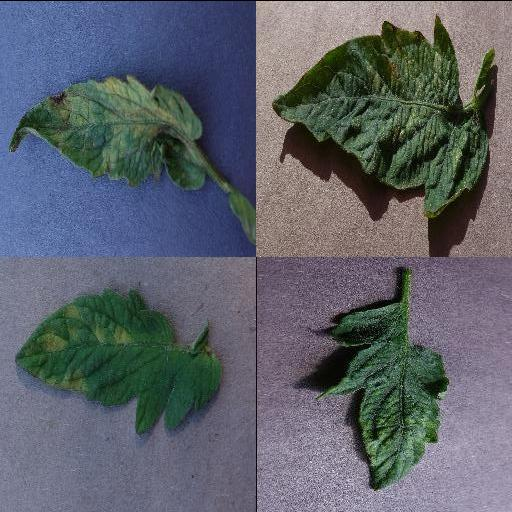Leaf Mold: (15, 288, 221, 436), (8, 73, 202, 191)
Mosaic Virus: (314, 301, 448, 489)
Spider Mites: (271, 14, 489, 216)
